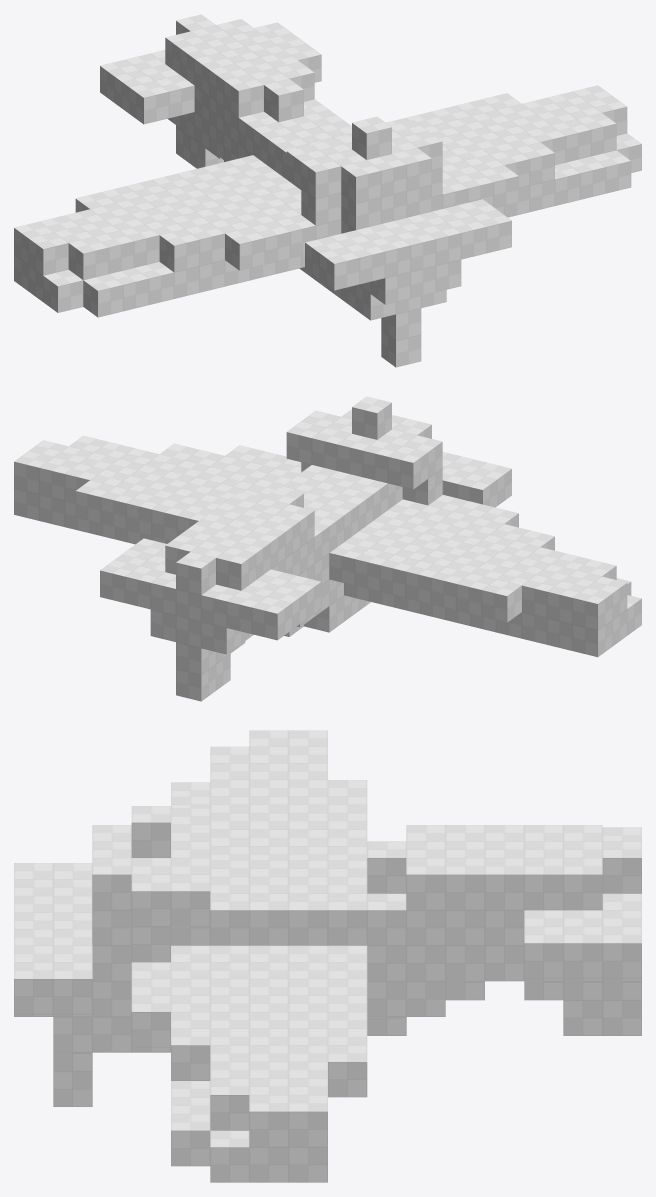
The picture shows the model from 3 angles, top to bottom: view 1: azimuth 30°, elevation 25°; view 2: azimuth 150°, elevation 25°; view 3: azimuth 270°, elevation 25°; orthographic projection. The views are drawn at different scales.
Visible parts, largest first — view 1: _bake; view 2: _bake; view 3: _bake.
Part boxes in pixels (<box>): _bake: <box>14,14,641,367</box>; _bake: <box>14,396,641,701</box>; _bake: <box>14,730,641,1182</box>.
Size of the model in its own units: 23 by 8 by 16.
1 material, 1 textured.
